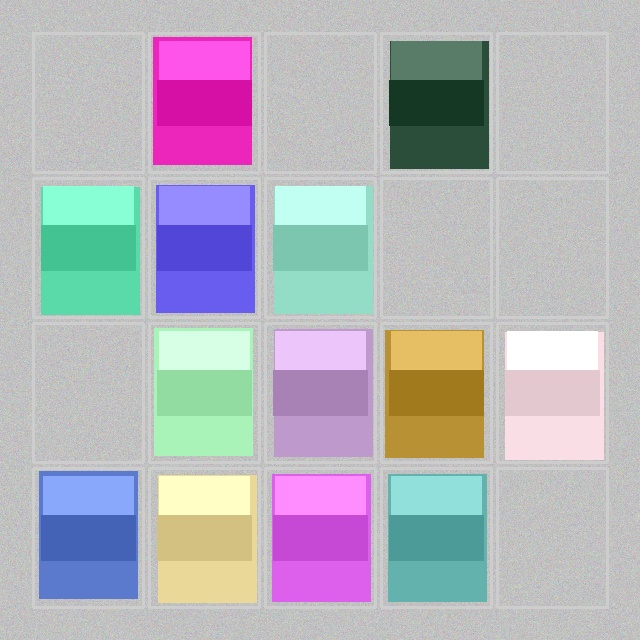space-empty: (35, 35, 141, 170), (267, 35, 373, 170), (499, 35, 605, 170), (383, 180, 489, 315), (499, 180, 605, 315), (35, 325, 141, 460), (499, 470, 605, 605)
space-occupied: (151, 35, 257, 170), (383, 35, 489, 170), (35, 180, 141, 315), (151, 180, 257, 315), (267, 180, 373, 315), (151, 325, 257, 460), (267, 325, 373, 460), (383, 325, 489, 460), (499, 325, 605, 460), (35, 470, 141, 605), (151, 470, 257, 605), (267, 470, 373, 605), (383, 470, 489, 605)
